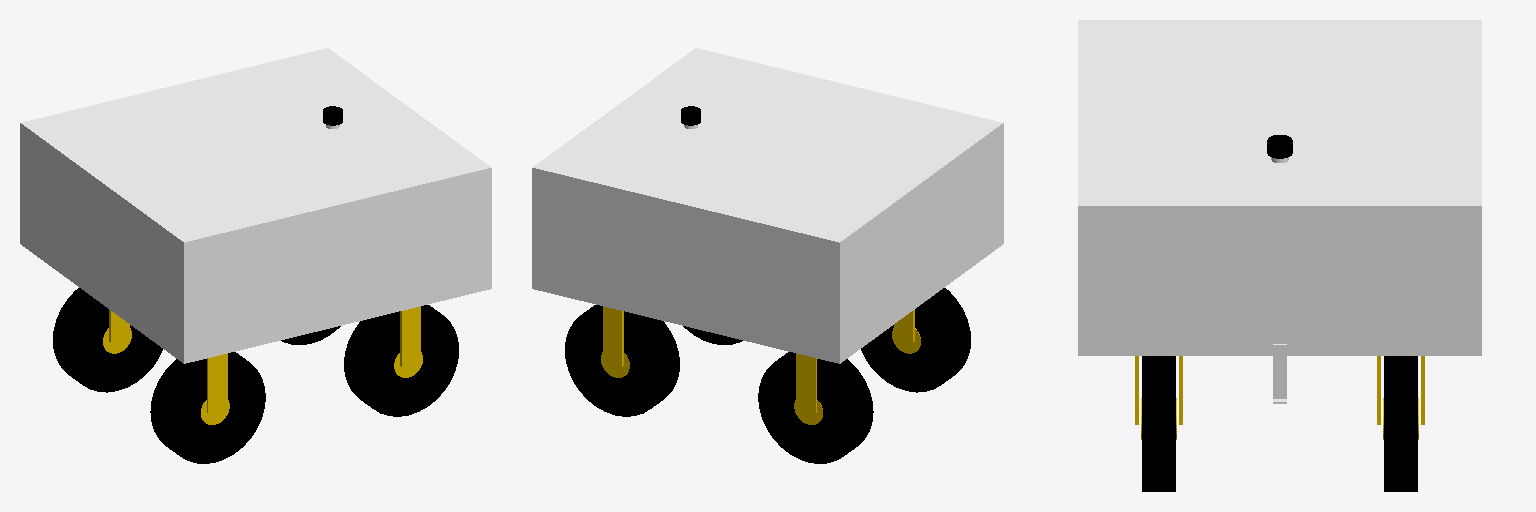
robot.urdf — complete_visual:
<?xml version="1.0" ?><robot name="complete_visual"><material name="silver"><color rgba="0.700 0.700 0.700 1.000"/></material><material name="white"><color rgba="1.0 1.0 1.0 1.0"/></material><material name="black"><color rgba="0.0 0.0 0.0 1.0"/></material><material name="dark_grey"><color rgba="0.2 0.2 0.2 1.0"/></material><material name="steel"><color rgba="0.5 0.5 0.5 1.0"/></material><material name="gold"><color rgba="1.0 0.84 0.0 1.0"/></material><material name="orange"><color rgba="1.0 0.42 0.04 1.0"/></material><material name="blue"><color rgba="0.0 0.0 0.8 1.0"/></material><material name="midnight_blue"><color rgba="0.1 0.1 0.4 1.0"/></material><material name="red"><color rgba="0.8 0.0 0.0 1.0"/></material><gazebo reference="base_link"><material>Gazebo/Silver</material><mu1>0.2</mu1><mu2>0.2</mu2><self_collide>false</self_collide><gravity>true</gravity><linearDamping>0.05</linearDamping><angularDamping>0.05</angularDamping></gazebo><gazebo reference="Revolute1_1"><material>Gazebo/Silver</material><mu1>0.2</mu1><mu2>0.2</mu2><self_collide>false</self_collide></gazebo><gazebo reference="Revolute2_1"><material>Gazebo/Silver</material><mu1>0.2</mu1><mu2>0.2</mu2><self_collide>false</self_collide></gazebo><gazebo reference="Revolute3_1"><material>Gazebo/Silver</material><mu1>0.2</mu1><mu2>0.2</mu2><self_collide>false</self_collide></gazebo><gazebo reference="Revolute4_1"><material>Gazebo/Silver</material><mu1>0.2</mu1><mu2>0.2</mu2><self_collide>false</self_collide></gazebo><gazebo reference="Wheel1_1"><material>Gazebo/Silver</material><mu1>1.0</mu1><mu2>0.2</mu2><kp>1000000</kp><kd>20</kd><minDepth>0.001</minDepth><maxVel>0.5</maxVel><fdir1>1 0 0</fdir1></gazebo><gazebo reference="Wheel2_1"><material>Gazebo/Silver</material><mu1>1.0</mu1><mu2>0.2</mu2><kp>1000000</kp><kd>20</kd><minDepth>0.001</minDepth><maxVel>0.5</maxVel><fdir1>1 0 0</fdir1></gazebo><gazebo reference="Wheel3_1"><material>Gazebo/Silver</material><mu1>1.0</mu1><mu2>0.2</mu2><kp>1000000</kp><kd>20</kd><minDepth>0.001</minDepth><maxVel>0.5</maxVel><fdir1>1 0 0</fdir1></gazebo><gazebo reference="Wheel4_1"><material>Gazebo/Silver</material><mu1>1.0</mu1><mu2>0.2</mu2><kp>10000000.0</kp><kd>20.0</kd><minDepth>0.001</minDepth><maxVel>0.5</maxVel><fdir1>1 0 0</fdir1></gazebo><gazebo reference="base_link"><material>Gazebo/White</material></gazebo><gazebo reference="Revolute1_1"><material>Gazebo/Gold</material></gazebo><gazebo reference="Revolute2_1"><material>Gazebo/Gold</material></gazebo><gazebo reference="Revolute3_1"><material>Gazebo/Gold</material></gazebo><gazebo reference="Revolute4_1"><material>Gazebo/Gold</material></gazebo><gazebo reference="Wheel1_1"><material>Gazebo/Black</material></gazebo><gazebo reference="Wheel2_1"><material>Gazebo/Black</material></gazebo><gazebo reference="Wheel3_1"><material>Gazebo/Black</material></gazebo><gazebo reference="Wheel4_1"><material>Gazebo/Black</material></gazebo><gazebo reference="Charge_link"><material>Gazebo/Gold</material></gazebo><gazebo reference="camera_link"><material>Gazebo/Red</material></gazebo><gazebo reference="shoulder_link"><material>Gazebo/Grey</material></gazebo><gazebo reference="upper_arm_link"><material>Gazebo/Grey</material></gazebo><gazebo reference="forearm_link"><material>Gazebo/Grey</material></gazebo><gazebo reference="wrist_1_link"><material>Gazebo/Blue</material></gazebo><gazebo reference="wrist_2_link"><material>Gazebo/Grey</material></gazebo><gazebo reference="wrist_3_link"><material>Gazebo/Grey</material></gazebo><gazebo reference="tool0"><material>Gazebo/Red</material></gazebo><link name="base_footprint"/><joint name="base_footprint_joint" type="fixed"><parent link="base_footprint"/><child link="base_link"/><origin xyz="0 0 0"/></joint><link name="base_link"><inertial><origin xyz="0.0 0 0.76"/><mass value="150"/><inertia ixx="20.042202263621476" ixy="0.0" ixz="0.0" iyy="23.096553920867624" iyz="0.0" izz="37.378756184489106"/></inertial><visual><origin xyz="0.0 0 0.53"/><geometry><box size="1.2717406628984582 1.1717406628984581 0.02"/></geometry><material name="white"/></visual><collision><origin xyz="0.0 0 0.53"/><geometry><box size="1.2717406628984582 1.1717406628984581 0.02"/></geometry></collision><visual><origin xyz="0.0 0 0.99"/><geometry><box size="1.2717406628984582 1.1717406628984581 0.02"/></geometry><material name="white"/></visual><collision><origin xyz="0.0 0 0.99"/><geometry><box size="1.2717406628984582 1.1717406628984581 0.02"/></geometry></collision><visual><origin xyz="0.6158703314492291 0.565870331449229 0.76"/><geometry><box size="0.04 0.04 0.43999999999999995"/></geometry><material name="white"/></visual><collision><origin xyz="0.6158703314492291 0.565870331449229 0.76"/><geometry><box size="0.04 0.04 0.43999999999999995"/></geometry></collision><visual><origin xyz="0.6158703314492291 -0.565870331449229 0.76"/><geometry><box size="0.04 0.04 0.43999999999999995"/></geometry><material name="white"/></visual><collision><origin xyz="0.6158703314492291 -0.565870331449229 0.76"/><geometry><box size="0.04 0.04 0.43999999999999995"/></geometry></collision><visual><origin xyz="-0.6158703314492291 0.565870331449229 0.76"/><geometry><box size="0.04 0.04 0.43999999999999995"/></geometry><material name="white"/></visual><collision><origin xyz="-0.6158703314492291 0.565870331449229 0.76"/><geometry><box size="0.04 0.04 0.43999999999999995"/></geometry></collision><visual><origin xyz="-0.6158703314492291 -0.565870331449229 0.76"/><geometry><box size="0.04 0.04 0.43999999999999995"/></geometry><material name="white"/></visual><collision><origin xyz="-0.6158703314492291 -0.565870331449229 0.76"/><geometry><box size="0.04 0.04 0.43999999999999995"/></geometry></collision><visual><origin xyz="0.6328703314492291 0 0.76"/><geometry><box size="0.006 1.1717406628984581 0.43999999999999995"/></geometry><material name="white"/></visual><collision><origin xyz="0.6328703314492291 0 0.76"/><geometry><box size="0.006 1.1717406628984581 0.43999999999999995"/></geometry></collision><visual><origin xyz="-0.6328703314492291 0 0.76"/><geometry><box size="0.006 1.1717406628984581 0.43999999999999995"/></geometry><material name="white"/></visual><collision><origin xyz="-0.6328703314492291 0 0.76"/><geometry><box size="0.006 1.1717406628984581 0.43999999999999995"/></geometry></collision><visual><origin xyz="0.0 0.5828703314492291 0.76"/><geometry><box size="1.2597406628984582 0.006 0.43999999999999995"/></geometry><material name="white"/></visual><collision><origin xyz="0.0 0.5828703314492291 0.76"/><geometry><box size="1.2597406628984582 0.006 0.43999999999999995"/></geometry></collision><visual><origin xyz="0.0 -0.5828703314492291 0.76"/><geometry><box size="1.2597406628984582 0.006 0.43999999999999995"/></geometry><material name="white"/></visual><collision><origin xyz="0.0 -0.5828703314492291 0.76"/><geometry><box size="1.2597406628984582 0.006 0.43999999999999995"/></geometry></collision></link><link name="roof_frame"/><joint name="base_to_roof" type="fixed"><parent link="base_link"/><child link="roof_frame"/><origin xyz="0.0 0 1.0"/></joint><link name="Revolute1_1"><inertial><origin xyz="0 0 -0.155"/><mass value="3"/><inertia ixx="0.028925000000000003" ixy="0.0" ixz="0.0" iyy="0.025625000000000002" iyz="0.0" izz="0.006500000000000001"/></inertial><visual><origin xyz="0 0 -0.008"/><geometry><box size="0.08 0.14 0.016"/></geometry><material name="gold"/></visual><collision><origin xyz="0 0 -0.008"/><geometry><box size="0.08 0.14 0.016"/></geometry></collision><visual><origin xyz="0 0.064 -0.163"/><geometry><box size="0.08 0.012 0.294"/></geometry><material name="gold"/></visual><collision><origin xyz="0 0.064 -0.163"/><geometry><box size="0.08 0.012 0.294"/></geometry></collision><visual><origin xyz="0 -0.064 -0.163"/><geometry><box size="0.08 0.012 0.294"/></geometry><material name="gold"/></visual><collision><origin xyz="0 -0.064 -0.163"/><geometry><box size="0.08 0.012 0.294"/></geometry></collision></link><joint name="Revolute1_to_base_link" type="continuous"><parent link="base_link"/><child link="Revolute1_1"/><origin xyz="0.4 0.35 0.52"/><axis xyz="0 0 1"/><limit effort="10000" velocity="30"/></joint><link name="Wheel1_1"><inertial><origin rpy="1.5707963267948966 0 0" xyz="0 0 0"/><mass value="15"/><inertia ixx="0.177875" ixy="0.0" ixz="0.0" iyy="0.177875" iyz="0.0" izz="0.33074999999999993"/></inertial><visual><origin rpy="1.5707963267948966 0 0"/><geometry><cylinder length="0.1" radius="0.21"/></geometry><material name="black"/></visual><collision><origin rpy="1.5707963267948966 0 0"/><geometry><cylinder length="0.1" radius="0.21"/></geometry></collision><visual><origin rpy="1.5707963267948966 0 0"/><geometry><cylinder length="0.10200000000000001" radius="0.06"/></geometry><material name="gold"/></visual></link><joint name="Wheel1_to_Revolute1" type="continuous"><parent link="Revolute1_1"/><child link="Wheel1_1"/><origin xyz="0 0 -0.31"/><axis xyz="0 1 0"/><limit effort="10000" velocity="30"/></joint><link name="Revolute2_1"><inertial><origin xyz="0 0 -0.155"/><mass value="3"/><inertia ixx="0.028925000000000003" ixy="0.0" ixz="0.0" iyy="0.025625000000000002" iyz="0.0" izz="0.006500000000000001"/></inertial><visual><origin xyz="0 0 -0.008"/><geometry><box size="0.08 0.14 0.016"/></geometry><material name="gold"/></visual><collision><origin xyz="0 0 -0.008"/><geometry><box size="0.08 0.14 0.016"/></geometry></collision><visual><origin xyz="0 0.064 -0.163"/><geometry><box size="0.08 0.012 0.294"/></geometry><material name="gold"/></visual><collision><origin xyz="0 0.064 -0.163"/><geometry><box size="0.08 0.012 0.294"/></geometry></collision><visual><origin xyz="0 -0.064 -0.163"/><geometry><box size="0.08 0.012 0.294"/></geometry><material name="gold"/></visual><collision><origin xyz="0 -0.064 -0.163"/><geometry><box size="0.08 0.012 0.294"/></geometry></collision></link><joint name="Revolute2_to_base_link" type="continuous"><parent link="base_link"/><child link="Revolute2_1"/><origin xyz="0.4 -0.35 0.52"/><axis xyz="0 0 1"/><limit effort="10000" velocity="30"/></joint><link name="Wheel2_1"><inertial><origin rpy="1.5707963267948966 0 0" xyz="0 0 0"/><mass value="15"/><inertia ixx="0.177875" ixy="0.0" ixz="0.0" iyy="0.177875" iyz="0.0" izz="0.33074999999999993"/></inertial><visual><origin rpy="1.5707963267948966 0 0"/><geometry><cylinder length="0.1" radius="0.21"/></geometry><material name="black"/></visual><collision><origin rpy="1.5707963267948966 0 0"/><geometry><cylinder length="0.1" radius="0.21"/></geometry></collision><visual><origin rpy="1.5707963267948966 0 0"/><geometry><cylinder length="0.10200000000000001" radius="0.06"/></geometry><material name="gold"/></visual></link><joint name="Wheel2_to_Revolute2" type="continuous"><parent link="Revolute2_1"/><child link="Wheel2_1"/><origin xyz="0 0 -0.31"/><axis xyz="0 1 0"/><limit effort="10000" velocity="30"/></joint><link name="Revolute3_1"><inertial><origin xyz="0 0 -0.155"/><mass value="3"/><inertia ixx="0.028925000000000003" ixy="0.0" ixz="0.0" iyy="0.025625000000000002" iyz="0.0" izz="0.006500000000000001"/></inertial><visual><origin xyz="0 0 -0.008"/><geometry><box size="0.08 0.14 0.016"/></geometry><material name="gold"/></visual><collision><origin xyz="0 0 -0.008"/><geometry><box size="0.08 0.14 0.016"/></geometry></collision><visual><origin xyz="0 0.064 -0.163"/><geometry><box size="0.08 0.012 0.294"/></geometry><material name="gold"/></visual><collision><origin xyz="0 0.064 -0.163"/><geometry><box size="0.08 0.012 0.294"/></geometry></collision><visual><origin xyz="0 -0.064 -0.163"/><geometry><box size="0.08 0.012 0.294"/></geometry><material name="gold"/></visual><collision><origin xyz="0 -0.064 -0.163"/><geometry><box size="0.08 0.012 0.294"/></geometry></collision></link><joint name="Revolute3_to_base_link" type="continuous"><parent link="base_link"/><child link="Revolute3_1"/><origin xyz="-0.4 0.35 0.52"/><axis xyz="0 0 1"/><limit effort="10000" velocity="30"/></joint><link name="Wheel3_1"><inertial><origin rpy="1.5707963267948966 0 0" xyz="0 0 0"/><mass value="15"/><inertia ixx="0.177875" ixy="0.0" ixz="0.0" iyy="0.177875" iyz="0.0" izz="0.33074999999999993"/></inertial><visual><origin rpy="1.5707963267948966 0 0"/><geometry><cylinder length="0.1" radius="0.21"/></geometry><material name="black"/></visual><collision><origin rpy="1.5707963267948966 0 0"/><geometry><cylinder length="0.1" radius="0.21"/></geometry></collision><visual><origin rpy="1.5707963267948966 0 0"/><geometry><cylinder length="0.10200000000000001" radius="0.06"/></geometry><material name="gold"/></visual></link><joint name="Wheel3_to_Revolute3" type="continuous"><parent link="Revolute3_1"/><child link="Wheel3_1"/><origin xyz="0 0 -0.31"/><axis xyz="0 1 0"/><limit effort="10000" velocity="30"/></joint><link name="Revolute4_1"><inertial><origin xyz="0 0 -0.155"/><mass value="3"/><inertia ixx="0.028925000000000003" ixy="0.0" ixz="0.0" iyy="0.025625000000000002" iyz="0.0" izz="0.006500000000000001"/></inertial><visual><origin xyz="0 0 -0.008"/><geometry><box size="0.08 0.14 0.016"/></geometry><material name="gold"/></visual><collision><origin xyz="0 0 -0.008"/><geometry><box size="0.08 0.14 0.016"/></geometry></collision><visual><origin xyz="0 0.064 -0.163"/><geometry><box size="0.08 0.012 0.294"/></geometry><material name="gold"/></visual><collision><origin xyz="0 0.064 -0.163"/><geometry><box size="0.08 0.012 0.294"/></geometry></collision><visual><origin xyz="0 -0.064 -0.163"/><geometry><box size="0.08 0.012 0.294"/></geometry><material name="gold"/></visual><collision><origin xyz="0 -0.064 -0.163"/><geometry><box size="0.08 0.012 0.294"/></geometry></collision></link><joint name="Revolute4_to_base_link" type="continuous"><parent link="base_link"/><child link="Revolute4_1"/><origin xyz="-0.4 -0.35 0.52"/><axis xyz="0 0 1"/><limit effort="10000" velocity="30"/></joint><link name="Wheel4_1"><inertial><origin rpy="1.5707963267948966 0 0" xyz="0 0 0"/><mass value="15"/><inertia ixx="0.177875" ixy="0.0" ixz="0.0" iyy="0.177875" iyz="0.0" izz="0.33074999999999993"/></inertial><visual><origin rpy="1.5707963267948966 0 0"/><geometry><cylinder length="0.1" radius="0.21"/></geometry><material name="black"/></visual><collision><origin rpy="1.5707963267948966 0 0"/><geometry><cylinder length="0.1" radius="0.21"/></geometry></collision><visual><origin rpy="1.5707963267948966 0 0"/><geometry><cylinder length="0.10200000000000001" radius="0.06"/></geometry><material name="gold"/></visual></link><joint name="Wheel4_to_Revolute4" type="continuous"><parent link="Revolute4_1"/><child link="Wheel4_1"/><origin xyz="0 0 -0.31"/><axis xyz="0 1 0"/><limit effort="10000" velocity="30"/></joint><material name="aluminum"><color rgba="0.5 0.5 0.5 1"/></material><material name="plastic"><color rgba="0.1 0.1 0.1 1"/></material><link name="d455_mount_frame"/><joint name="base_to_d455_mount" type="fixed"><parent link="base_link"/><child link="d455_mount_frame"/><origin xyz="0.6608703314492291 0 0.4"/></joint><link name="d455_front_bracket"><inertial><origin xyz="0 0 0"/><mass value="0.1"/><inertia ixx="0.0002818354166666667" ixy="0.0" ixz="0.0" iyy="0.0002688020833333334" iyz="0.0" izz="1.3633333333333334e-05"/></inertial><visual><origin xyz="0 0 0"/><geometry><box size="0.006 0.04 0.17950000000000002"/></geometry><material name="white"/></visual><collision><origin xyz="0 0 0"/><geometry><box size="0.006 0.04 0.17950000000000002"/></geometry></collision><visual><origin xyz="0.011000000000000012 0 -0.08725000000000001"/><geometry><box size="0.022000000000000023 0.04 0.005"/></geometry><material name="white"/></visual><collision><origin xyz="0.011000000000000012 0 -0.08725000000000001"/><geometry><box size="0.022000000000000023 0.04 0.005"/></geometry></collision></link><joint name="base_to_d455_bracket" type="fixed"><parent link="base_link"/><child link="d455_front_bracket"/><origin xyz="0.6388703314492291 0 0.47025000000000006"/></joint><joint name="d455_joint" type="fixed"><origin rpy="0 0 0" xyz="-0.0028 0 -0.0145"/><parent link="d455_mount_frame"/><child link="d455_bottom_screw_frame"/></joint><link name="d455_bottom_screw_frame"/><joint name="d455_link_joint" type="fixed"><origin rpy="0 0 0" xyz="0.011150000000000002 0.0475 0.0145"/><parent link="d455_bottom_screw_frame"/><child link="d455_link"/></joint><link name="d455_link"><visual><origin rpy="1.5707963267948966 0 1.5707963267948966" xyz="0.0046500000000000005 -0.0475 0"/><geometry><mesh filename="file:///opt/ros/humble/share/realsense2_description/meshes/d455.stl" scale="0.001 0.001 0.001"/></geometry><material name="aluminum"/></visual><collision><origin rpy="0 0 0" xyz="-0.00845 -0.0475 0"/><geometry><box size="0.026 0.124 0.029"/></geometry></collision><inertial><mass value="0.072"/><origin xyz="0 0 0"/><inertia ixx="0.003881243" ixy="0.0" ixz="0.0" iyy="0.000498940" iyz="0.0" izz="0.003879257"/></inertial></link><joint name="d455_depth_joint" type="fixed"><origin rpy="0 0 0" xyz="0 0 0"/><parent link="d455_link"/><child link="d455_depth_frame"/></joint><link name="d455_depth_frame"/><joint name="d455_depth_optical_joint" type="fixed"><origin rpy="-1.5707963267948966 0 -1.5707963267948966" xyz="0 0 0"/><parent link="d455_depth_frame"/><child link="d455_depth_optical_frame"/></joint><link name="d455_depth_optical_frame"/><joint name="d455_infra1_joint" type="fixed"><origin rpy="0 0 0" xyz="0 0.0 0"/><parent link="d455_link"/><child link="d455_infra1_frame"/></joint><link name="d455_infra1_frame"/><joint name="d455_infra1_optical_joint" type="fixed"><origin rpy="-1.5707963267948966 0 -1.5707963267948966" xyz="0 0 0"/><parent link="d455_infra1_frame"/><child link="d455_infra1_optical_frame"/></joint><link name="d455_infra1_optical_frame"/><joint name="d455_infra2_joint" type="fixed"><origin rpy="0 0 0" xyz="0 -0.095 0"/><parent link="d455_link"/><child link="d455_infra2_frame"/></joint><link name="d455_infra2_frame"/><joint name="d455_infra2_optical_joint" type="fixed"><origin rpy="-1.5707963267948966 0 -1.5707963267948966" xyz="0 0 0"/><parent link="d455_infra2_frame"/><child link="d455_infra2_optical_frame"/></joint><link name="d455_infra2_optical_frame"/><joint name="d455_color_joint" type="fixed"><origin rpy="0 0 0" xyz="0 -0.059 0"/><parent link="d455_link"/><child link="d455_color_frame"/></joint><link name="d455_color_frame"/><joint name="d455_color_optical_joint" type="fixed"><origin rpy="-1.5707963267948966 0 -1.5707963267948966" xyz="0 0 0"/><parent link="d455_color_frame"/><child link="d455_color_optical_frame"/></joint><link name="d455_color_optical_frame"/><link name="d455_accel_frame"/><link name="d455_accel_optical_frame"/><link name="d455_gyro_frame"/><link name="d455_gyro_optical_frame"/><link name="d455_imu_optical_frame"/><joint name="d455_accel_joint" type="fixed"><origin rpy="0 0 0" xyz="-0.01602 -0.03022 0.0074"/><parent link="d455_link"/><child link="d455_accel_frame"/></joint><joint name="d455_accel_optical_joint" type="fixed"><origin rpy="-1.5707963267948966 0 -1.5707963267948966" xyz="0 0 0"/><parent link="d455_accel_frame"/><child link="d455_accel_optical_frame"/></joint><joint name="d455_gyro_joint" type="fixed"><origin rpy="0 0 0" xyz="-0.01602 -0.03022 0.0074"/><parent link="d455_link"/><child link="d455_gyro_frame"/></joint><joint name="d455_gyro_optical_joint" type="fixed"><origin rpy="-1.5707963267948966 0 -1.5707963267948966" xyz="0 0 0"/><parent link="d455_gyro_frame"/><child link="d455_gyro_optical_frame"/></joint><joint name="d455_imu_optical_joint" type="fixed"><origin rpy="0 0 0" xyz="0 0 0"/><parent link="d455_gyro_optical_frame"/><child link="d455_imu_optical_frame"/></joint><gazebo reference="d455_link"><sensor name="body_camera_sensor" type="depth"><always_on>true</always_on><update_rate>10</update_rate><visualize>false</visualize><camera><horizontal_fov>1.518</horizontal_fov><image><width>640</width><height>480</height><format>R8G8B8</format></image><clip><near>0.1</near><far>20</far></clip></camera><plugin filename="libgazebo_ros_camera.so" name="d455_simulator"><ros><namespace>/body_camera</namespace></ros><camera_name>d455</camera_name><frame_name>d455_depth_optical_frame</frame_name><min_depth>0.1</min_depth><max_depth>20</max_depth></plugin></sensor></gazebo><link name="lidar_mount_frame"><visual><origin xyz="0 0 0.01"/><geometry><cylinder length="0.02" radius="0.025"/></geometry><material name="white"/></visual><collision><origin xyz="0 0 0.01"/><geometry><cylinder length="0.02" radius="0.025"/></geometry></collision><inertial><origin xyz="0 0 0.01"/><mass value="0.05"/><inertia ixx="9.479166666666669e-06" ixy="0.0" ixz="0.0" iyy="9.479166666666669e-06" iyz="0.0" izz="1.5625000000000004e-05"/></inertial></link><joint name="roof_to_lidar_mount" type="fixed"><parent link="roof_frame"/><child link="lidar_mount_frame"/><origin xyz="0.31793516572461455 0 0"/></joint><link name="lidar_link"><visual><geometry><cylinder length="0.043" radius="0.0365"/></geometry><material name="black"/></visual><collision><geometry><cylinder length="0.043" radius="0.0365"/></geometry></collision><inertial><origin xyz="0 0 0"/><mass value="0.185"/><inertia ixx="9.012197916666665e-05" ixy="0.0" ixz="0.0" iyy="9.012197916666665e-05" iyz="0.0" izz="0.00012323312499999998"/></inertial></link><joint name="lidar_mount_to_body" type="fixed"><parent link="lidar_mount_frame"/><child link="lidar_link"/><origin xyz="0 0 0.041499999999999995"/></joint><link name="laser_frame"/><joint name="lidar_scan_joint" type="fixed"><parent link="lidar_link"/><child link="laser_frame"/><origin xyz="0 0 0.0"/></joint><gazebo reference="laser_frame"></gazebo><ros2_control name="GazeboSystem" type="system"><hardware><plugin>gazebo_ros2_control/GazeboSystem</plugin></hardware><joint name="Revolute1_to_base_link"><command_interface name="position"><param name="min">-3.14</param><param name="max">3.14</param></command_interface><state_interface name="velocity"/><state_interface name="position"/></joint><joint name="Revolute2_to_base_link"><command_interface name="position"><param name="min">-3.14</param><param name="max">3.14</param></command_interface><state_interface name="velocity"/><state_interface name="position"/></joint><joint name="Revolute3_to_base_link"><command_interface name="position"><param name="min">-3.14</param><param name="max">3.14</param></command_interface><state_interface name="velocity"/><state_interface name="position"/></joint><joint name="Revolute4_to_base_link"><command_interface name="position"><param name="min">-3.14</param><param name="max">3.14</param></command_interface><state_interface name="velocity"/><state_interface name="position"/></joint><joint name="Wheel1_to_Revolute1"><command_interface name="velocity"><param name="min">-10</param><param name="max">10</param></command_interface><state_interface name="velocity"/><state_interface name="position"/></joint><joint name="Wheel2_to_Revolute2"><command_interface name="velocity"><param name="min">-10</param><param name="max">10</param></command_interface><state_interface name="velocity"/><state_interface name="position"/></joint><joint name="Wheel3_to_Revolute3"><command_interface name="velocity"><param name="min">-10</param><param name="max">10</param></command_interface><state_interface name="velocity"/><state_interface name="position"/></joint><joint name="Wheel4_to_Revolute4"><command_interface name="velocity"><param name="min">-10</param><param name="max">10</param></command_interface><state_interface name="velocity"/><state_interface name="position"/></joint></ros2_control><gazebo><plugin filename="libgazebo_ros2_control.so" name="gazebo_ros2_control"><parameters>/tmp/vinuni_sim_efby8yv9/controllers.yaml</parameters></plugin></gazebo><gazebo><plugin filename="libvinuni_wheel_contact_surface.so" name="wheel_contact_surface"/></gazebo></robot>

--- Render facts (derived) ---
3 views of the same robot in one strip: view 1: azimuth 30°, elevation 25°; view 2: azimuth 150°, elevation 25°; view 3: azimuth 270°, elevation 25° (orthographic).
Robot: complete_visual — 31 links, 30 joints (8 continuous, 22 fixed); root link base_footprint; default pose: all joints at 0.
Links seen in each view (by area): view 1: base_link, Wheel4_1, Wheel2_1, Wheel3_1, Revolute4_1, Revolute2_1; view 2: base_link, Wheel3_1, Wheel1_1, Wheel4_1, Revolute3_1, Revolute1_1; view 3: base_link, Wheel1_1, Wheel2_1, d455_front_bracket, lidar_link, Revolute1_1, Revolute2_1.
Boxes of the visible links, x1,y1,x2,y2 form: base_link: [20, 48, 491, 363]; Wheel4_1: [150, 352, 265, 463]; Wheel2_1: [344, 305, 458, 416]; Wheel3_1: [53, 288, 162, 392]; Revolute4_1: [207, 353, 227, 413]; Revolute2_1: [400, 306, 420, 366]; base_link: [532, 48, 1003, 363]; Wheel3_1: [758, 352, 873, 463]; Wheel1_1: [565, 305, 679, 416]; Wheel4_1: [861, 288, 970, 392]; Revolute3_1: [796, 353, 816, 413]; Revolute1_1: [603, 306, 623, 366]; base_link: [1078, 20, 1481, 355]; Wheel1_1: [1383, 356, 1418, 491]; Wheel2_1: [1141, 356, 1176, 491]; d455_front_bracket: [1273, 344, 1286, 403]; lidar_link: [1267, 135, 1292, 158]; Revolute1_1: [1377, 356, 1424, 424]; Revolute2_1: [1135, 356, 1182, 424].
Bounding box of the posed robot: 1.3 × 1.17 × 1.06 m (x, y, z).
Geometry: only primitive shapes (box / cylinder / sphere) drawn; not drawn: 1 mesh visual (reference in a form the renderer does not follow).
